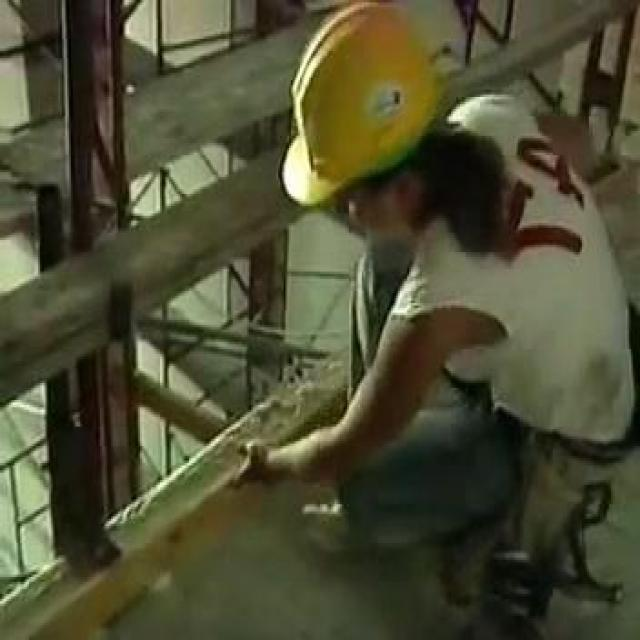Safety-Helmet: (274, 1, 442, 209)
